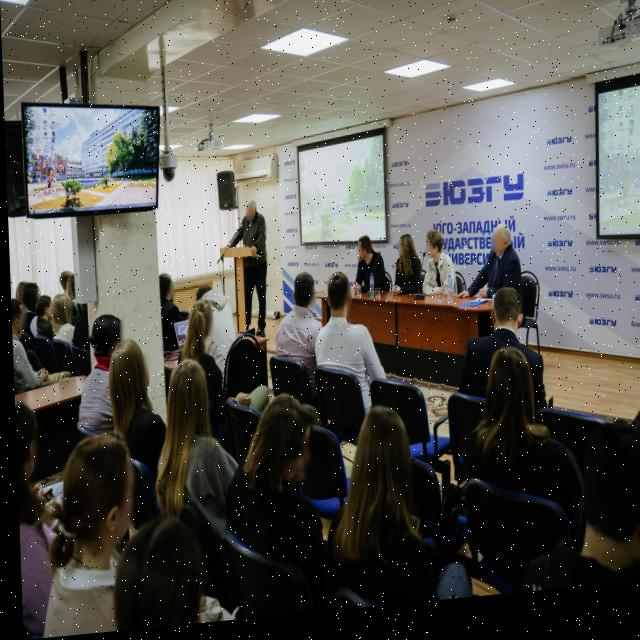Person: (233, 399, 334, 592), (93, 508, 223, 634), (146, 339, 229, 535), (53, 436, 132, 637), (347, 404, 424, 605), (465, 360, 556, 525), (11, 392, 55, 640), (314, 272, 380, 404), (102, 335, 164, 475), (465, 292, 527, 406), (272, 274, 324, 396), (227, 200, 269, 338), (472, 222, 528, 323), (9, 298, 44, 406), (155, 268, 183, 366), (182, 297, 216, 375), (349, 232, 383, 306), (390, 235, 425, 304), (421, 237, 452, 312), (47, 290, 74, 364), (31, 293, 62, 353), (21, 277, 44, 335)
